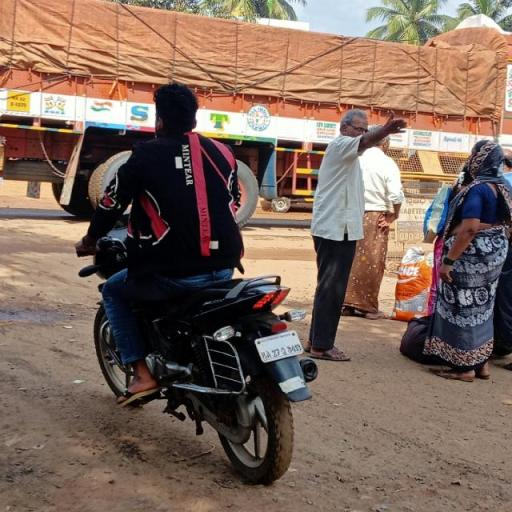bike: (60, 80, 334, 479)
numberplate: (250, 327, 306, 365)
withouthelmet: (153, 87, 197, 134)
